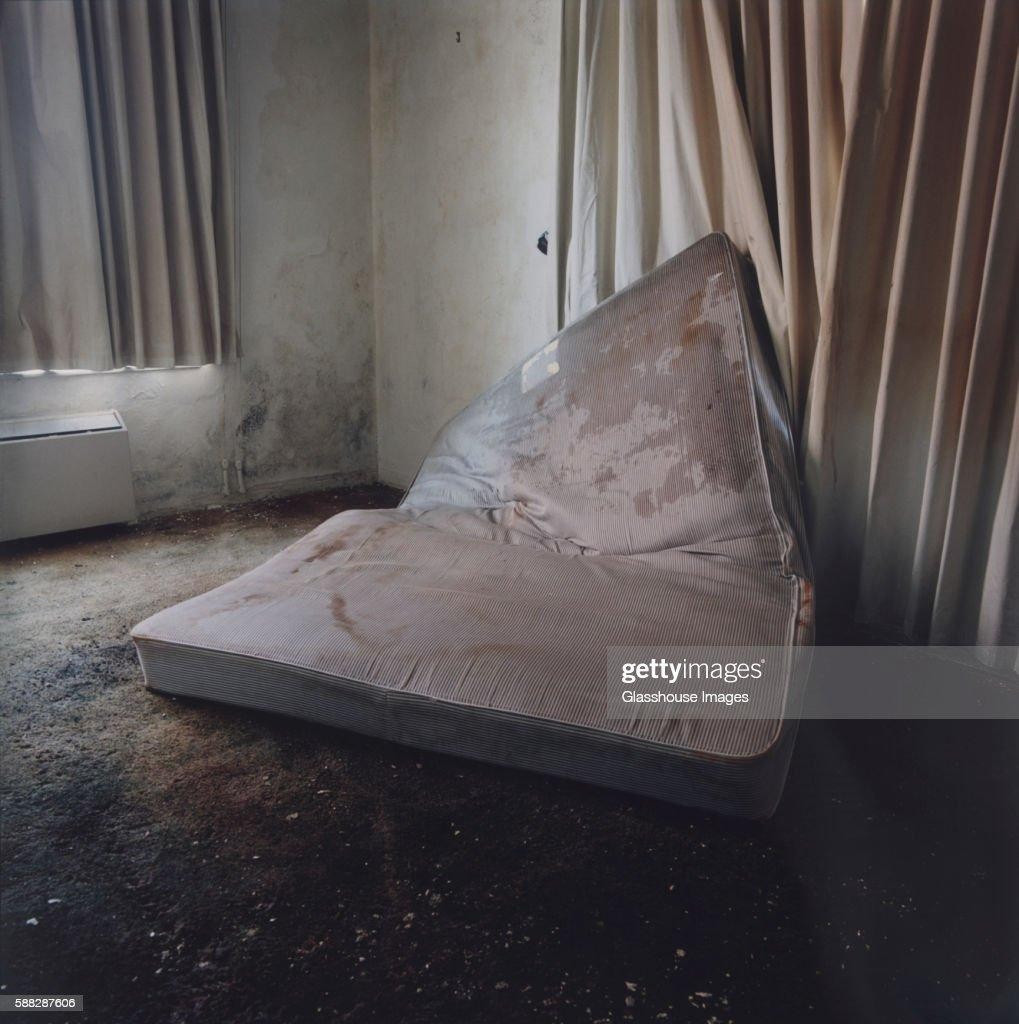Bed-Mattress: (99, 216, 870, 832)
